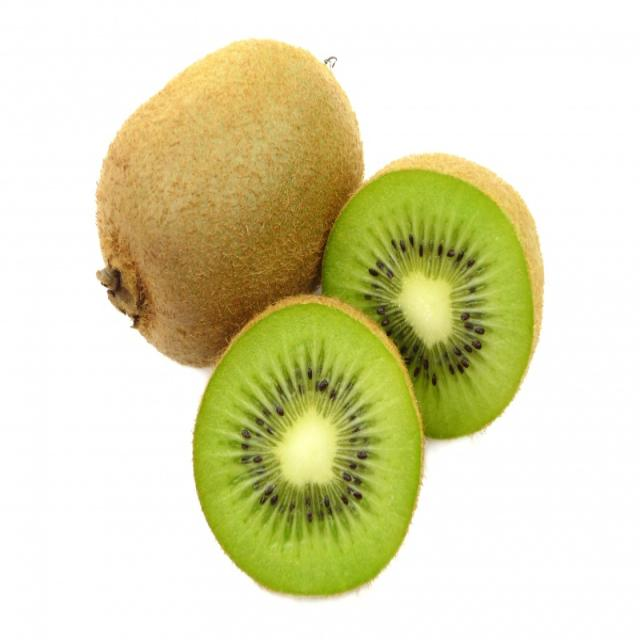kiwi: (97, 40, 363, 365), (193, 296, 423, 595), (323, 154, 543, 438)
